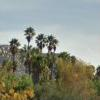Palm tree: (6, 18, 77, 72)
